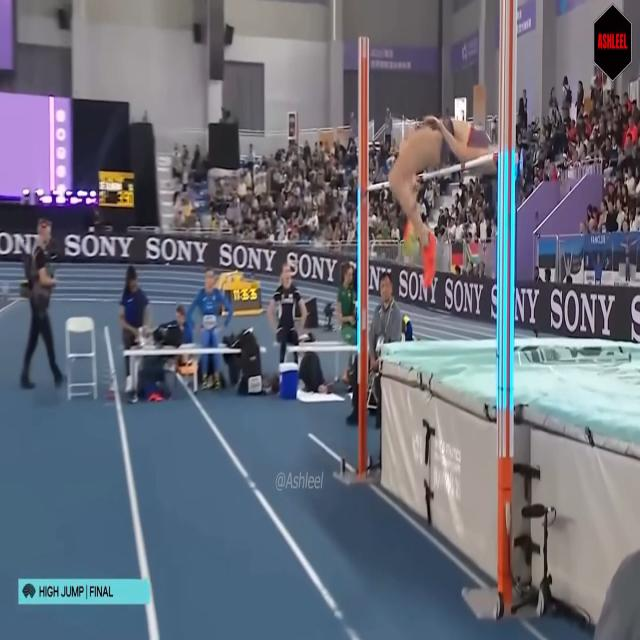jump: (389, 114, 498, 290)
